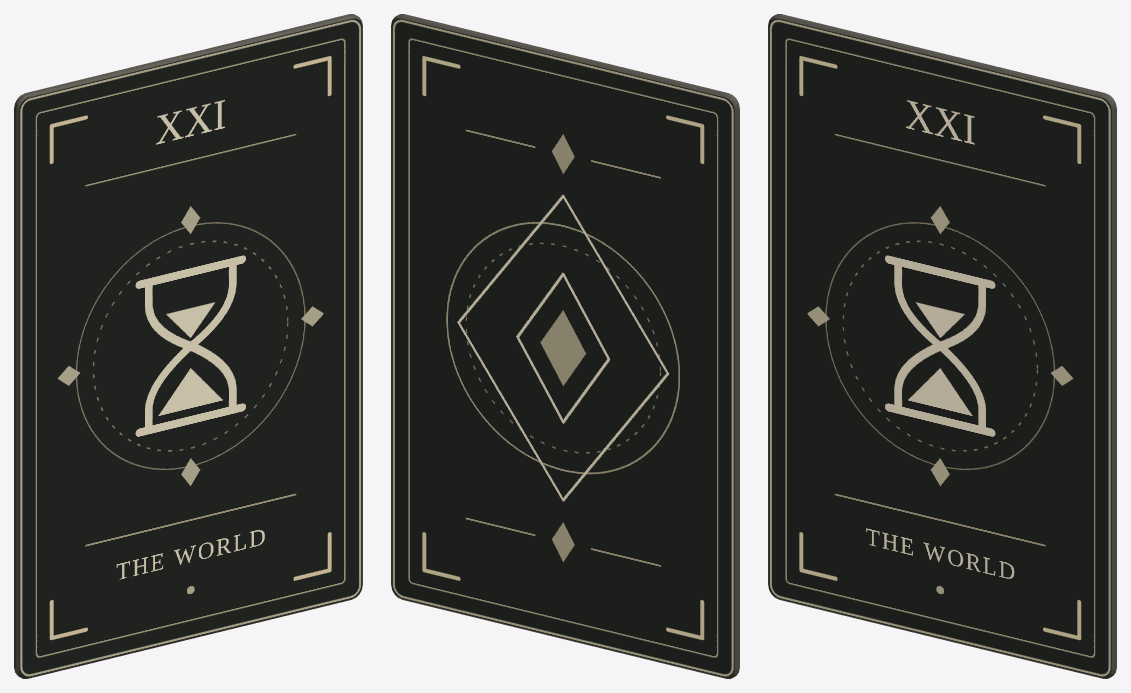
The model's file is world.glb.
3 renders of one model, left to right at view 1: azimuth 30°, elevation 25°; view 2: azimuth 150°, elevation 25°; view 3: azimuth 330°, elevation 25°, orthographic.
Parts seen in each view (by area): view 1: world; view 2: world; view 3: world.
Boxes of the visible parts, x1=… form: world: x1=14, y1=14, x2=362, y2=678; world: x1=391, y1=14, x2=739, y2=678; world: x1=768, y1=14, x2=1116, y2=678.
Bounding box in the file's own units: 0.18 × 0.29 × 0.004.
3 materials, 2 textured.
